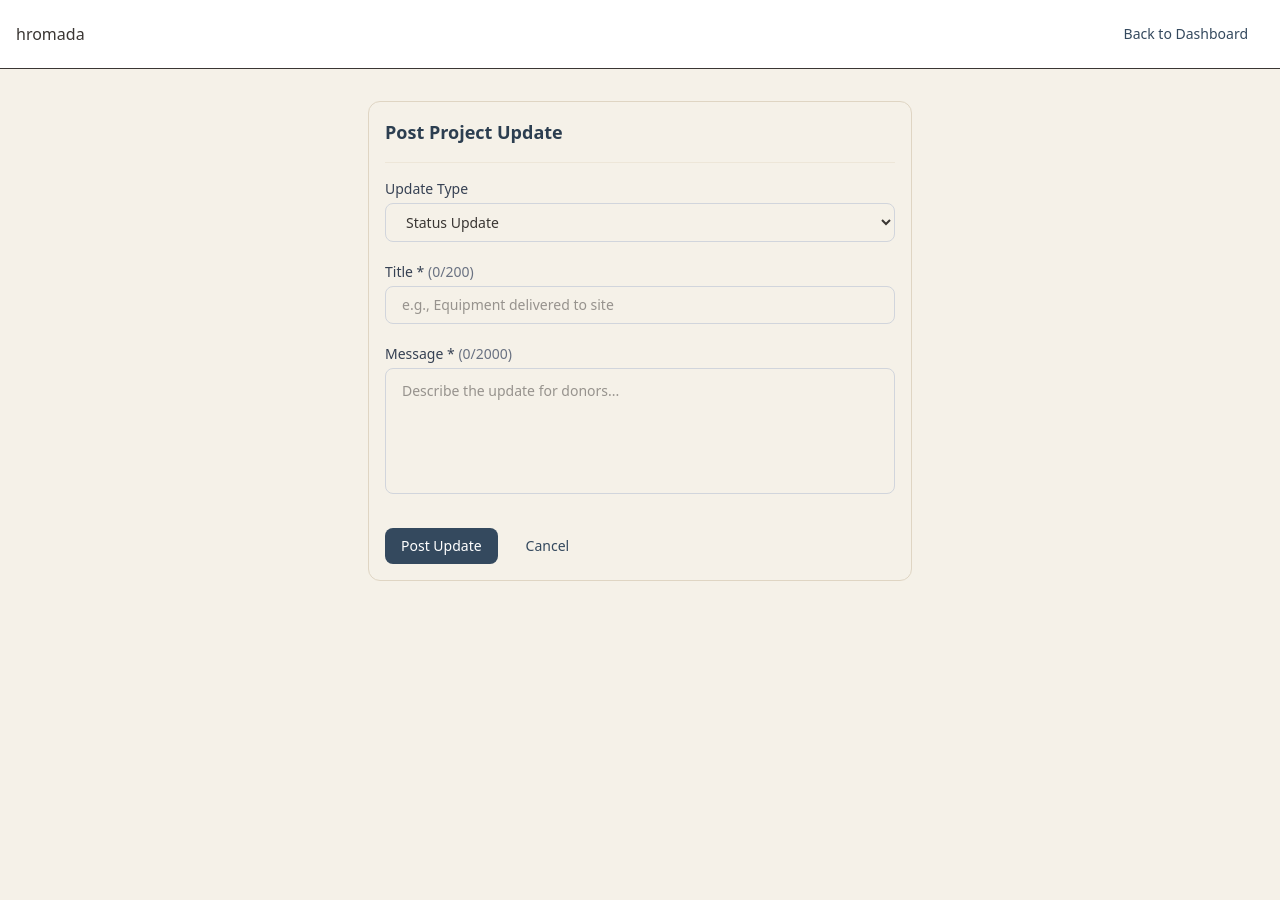
PartnerPostUpdatePage › shows validation error when submitting empty form
This screenshot has width=1280, height=900.
Click the button "Post Update" at (441, 546), box x1=385 y1=528 x2=498 y2=564
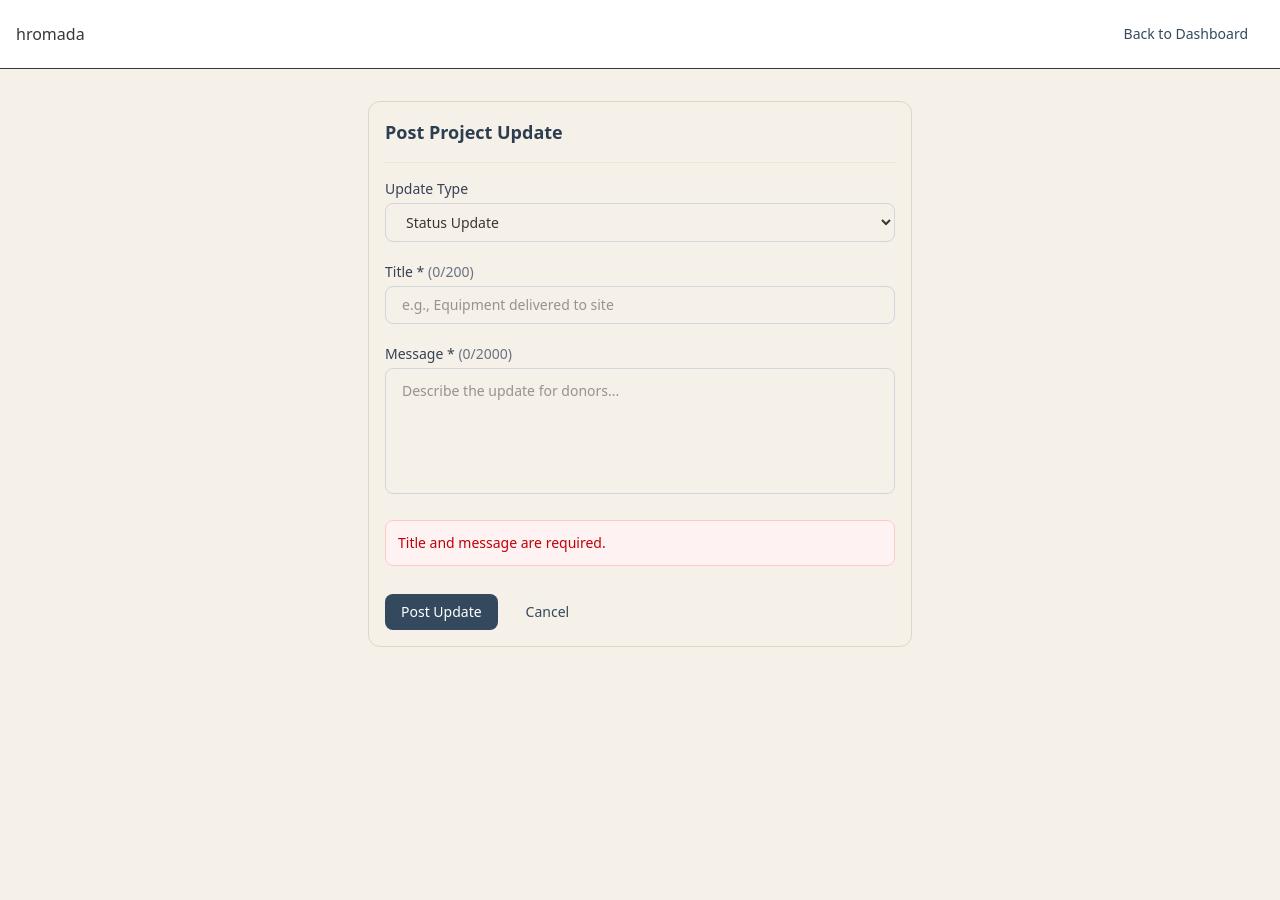
Expected: the text "Title and message are required." is shown, x1=385 y1=520 x2=895 y2=566
